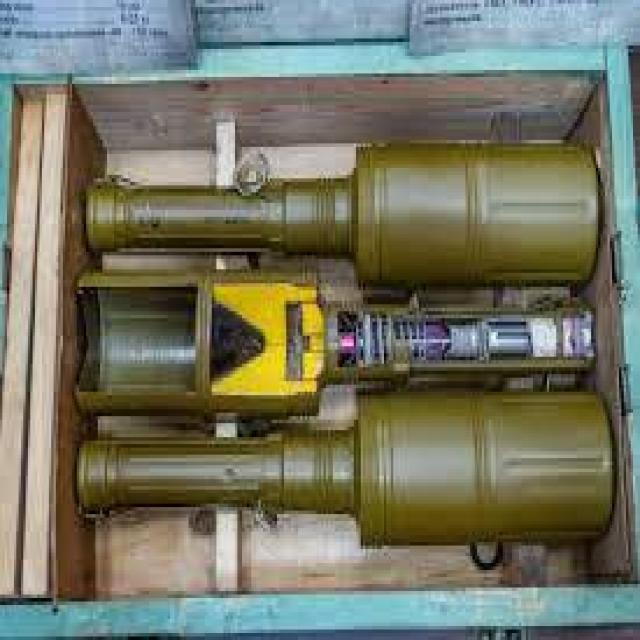grenade: (80, 380, 614, 550), (72, 278, 612, 420), (82, 142, 605, 286)
